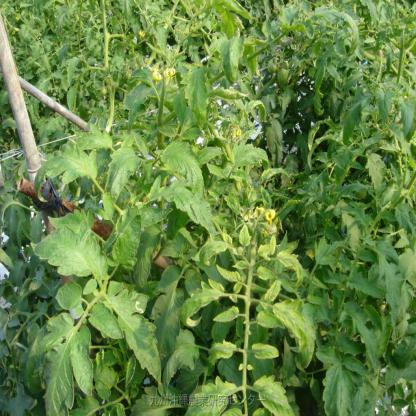tomato leaf yellow virus: (25, 303, 92, 415), (106, 285, 166, 388), (43, 219, 113, 284), (156, 184, 225, 240), (25, 142, 103, 183), (158, 141, 213, 194), (272, 302, 317, 360), (181, 64, 214, 137), (180, 276, 223, 328), (256, 368, 300, 415), (187, 378, 236, 415), (59, 125, 122, 152), (278, 245, 308, 290), (230, 140, 271, 170), (251, 306, 287, 337), (207, 337, 241, 367), (212, 303, 243, 329), (249, 343, 283, 362), (237, 223, 257, 250)
